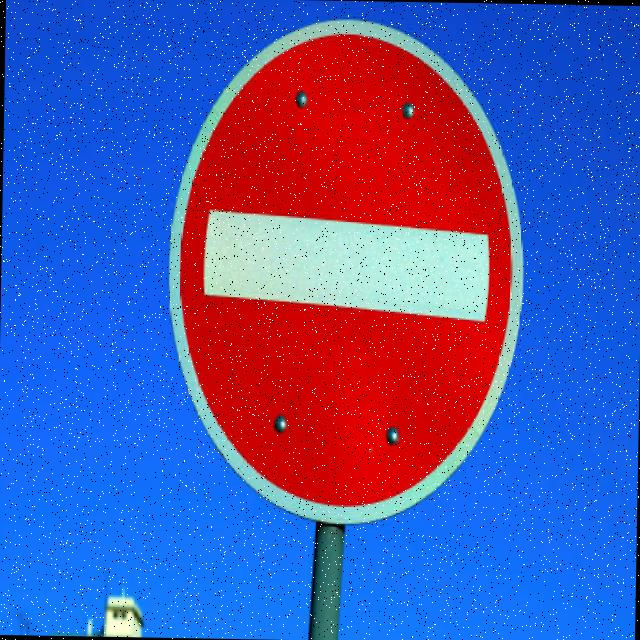do_not_enter: (152, 2, 545, 540)
